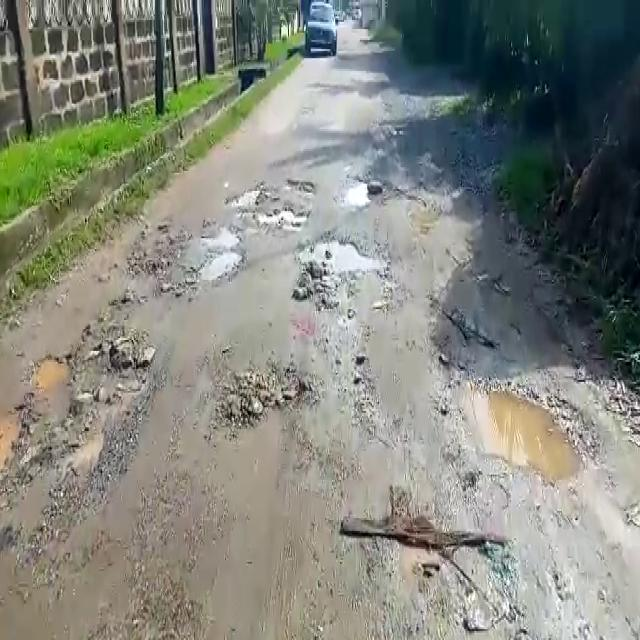Pothole: (449, 370, 598, 476), (289, 234, 391, 285), (188, 232, 244, 284), (0, 400, 29, 480), (244, 199, 316, 228), (28, 350, 68, 390), (343, 175, 381, 208), (284, 179, 322, 199)
